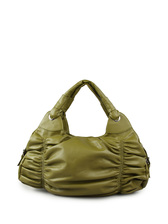bag: (12, 80, 153, 195)
